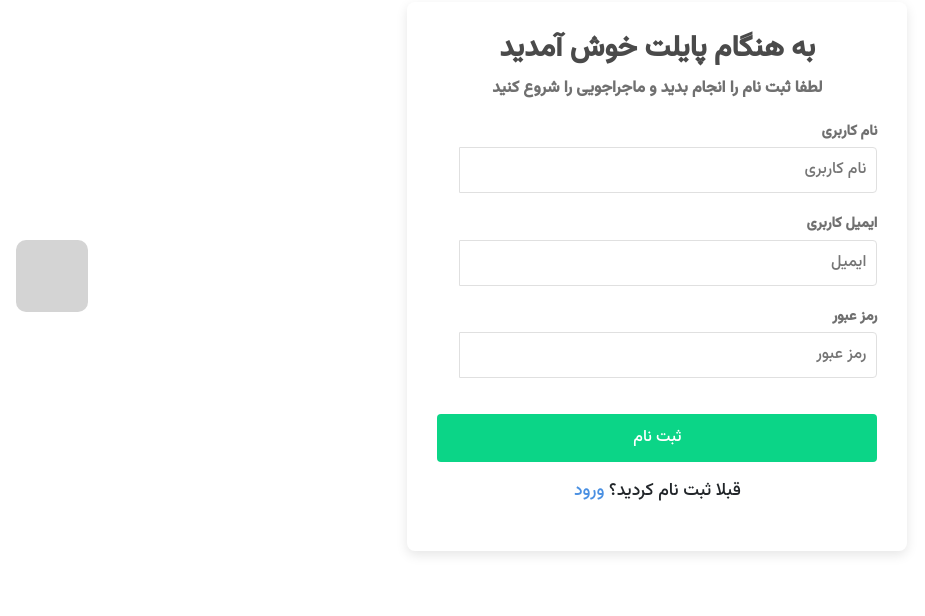
Test: SignUpPage › shows error when email is empty
The image size is (925, 616).
Attempt to submit without entering an email
In the field labelled "نام کاربری": point(668, 170) [459,147,877,193], type "newUser"
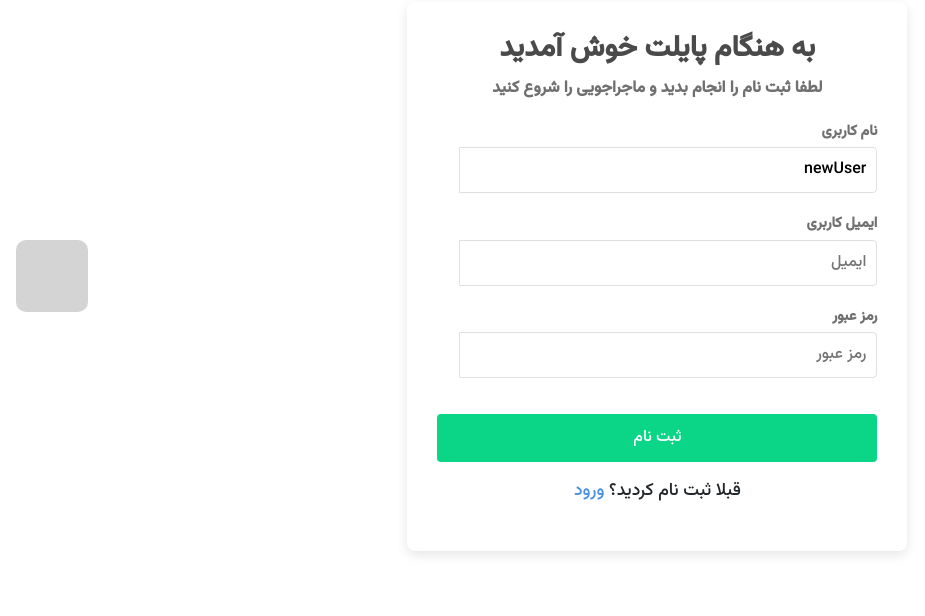
In the password field labelled "رمز عبور": point(668, 355) [459,332,877,378], type "Password123!"
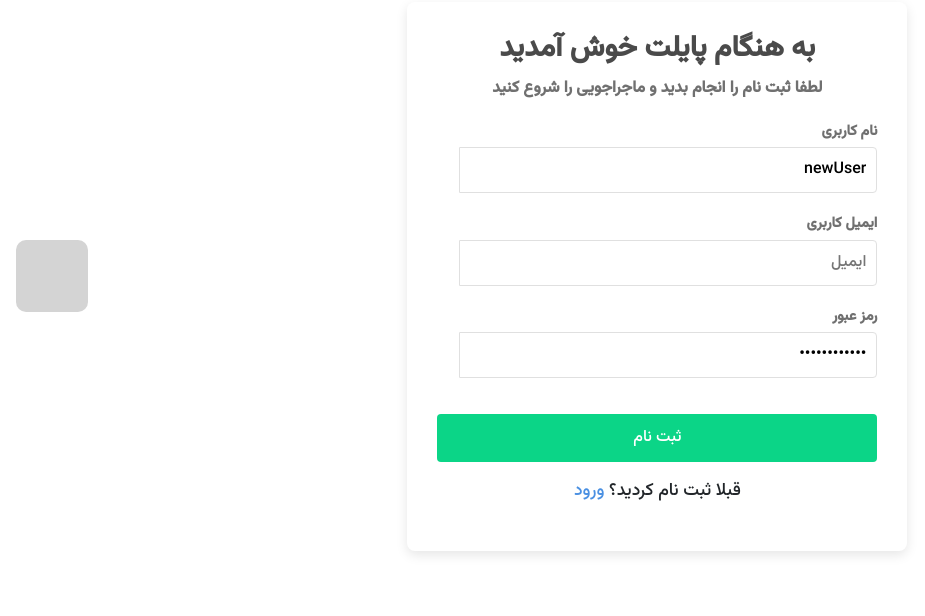
Click the button "ثبت نام": point(657, 438) [437,414,877,462]
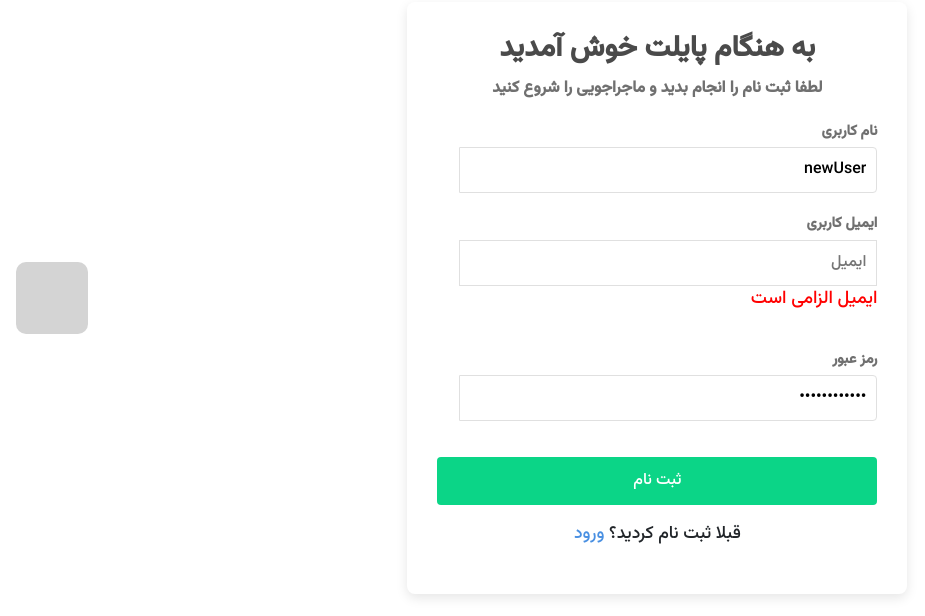
Result: the text "ایمیل الزامی است" is shown at [751,286,877,313]
